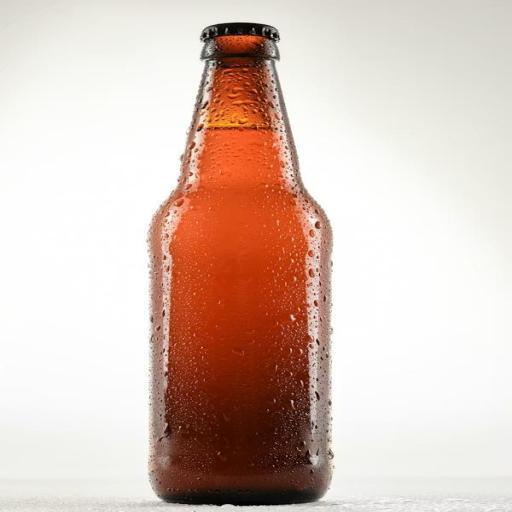bottle: (130, 12, 358, 508)
